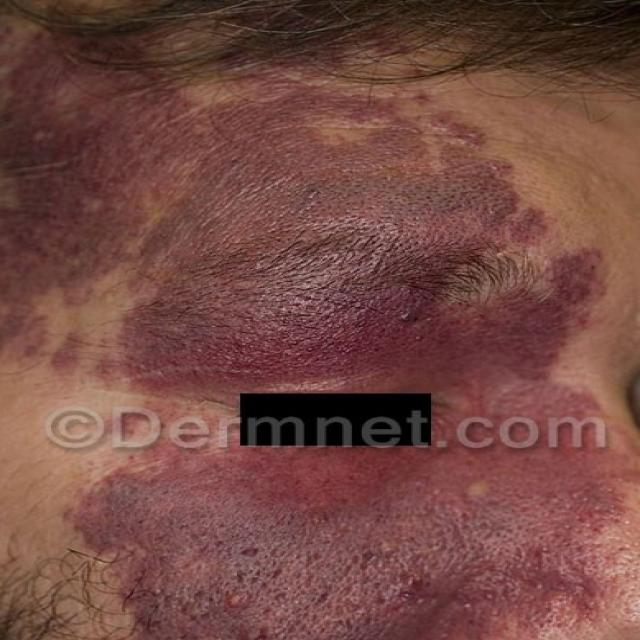Vascular Tumors: (0, 52, 599, 389), (72, 418, 640, 640)
